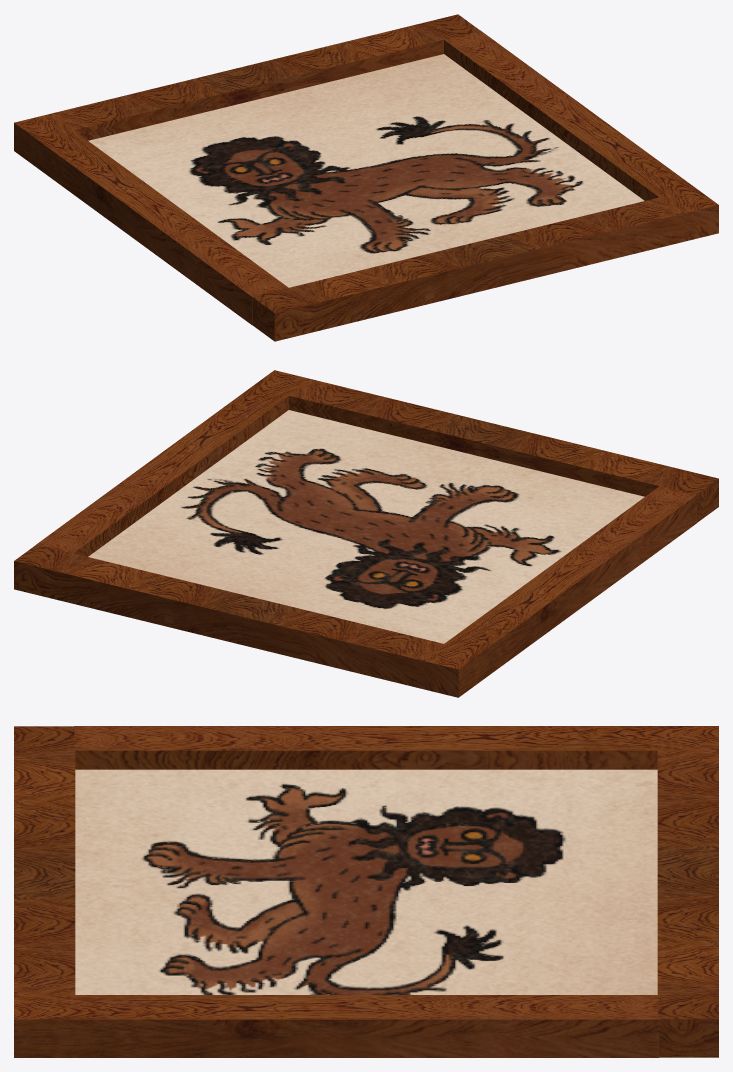
Rendered from newsansonframe.glb.
3 renders of one model, top to bottom at view 1: azimuth 30°, elevation 25°; view 2: azimuth 150°, elevation 25°; view 3: azimuth 270°, elevation 25°, orthographic. The views are drawn at different scales.
Parts seen in each view (by area): view 1: Plane, Cube.001, Cube; view 2: Plane, Cube, Cube.001; view 3: Plane, Cube.001, Cube.
Part boxes in pixels (x1,y1,x2,y2): Plane: [88, 54, 644, 287]; Cube.001: [252, 30, 718, 341]; Cube: [14, 14, 480, 325]; Plane: [88, 410, 644, 643]; Cube: [14, 486, 696, 697]; Cube.001: [36, 370, 718, 556]; Plane: [75, 769, 657, 994]; Cube.001: [14, 726, 659, 1057]; Cube: [74, 726, 718, 1057].
Size of the model in its own units: 0.6743 by 0.0411 by 0.6847.
Materials: 2 (2 with a texture image).
